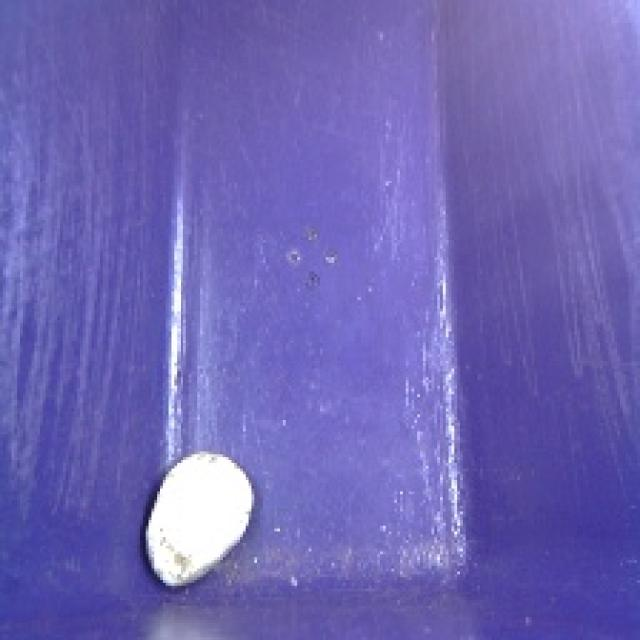cobbles: (132, 444, 263, 591)
